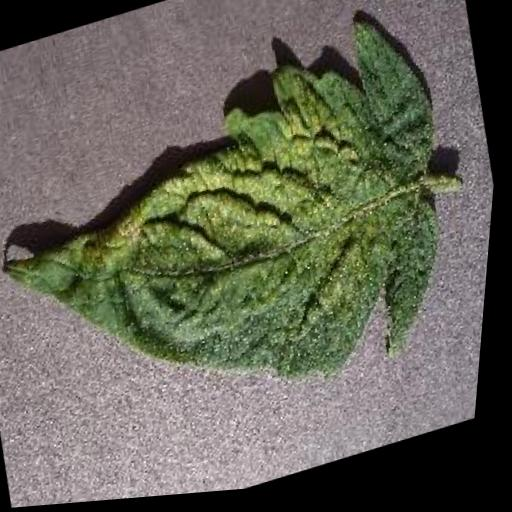Spider Mites: (0, 0, 493, 466)
